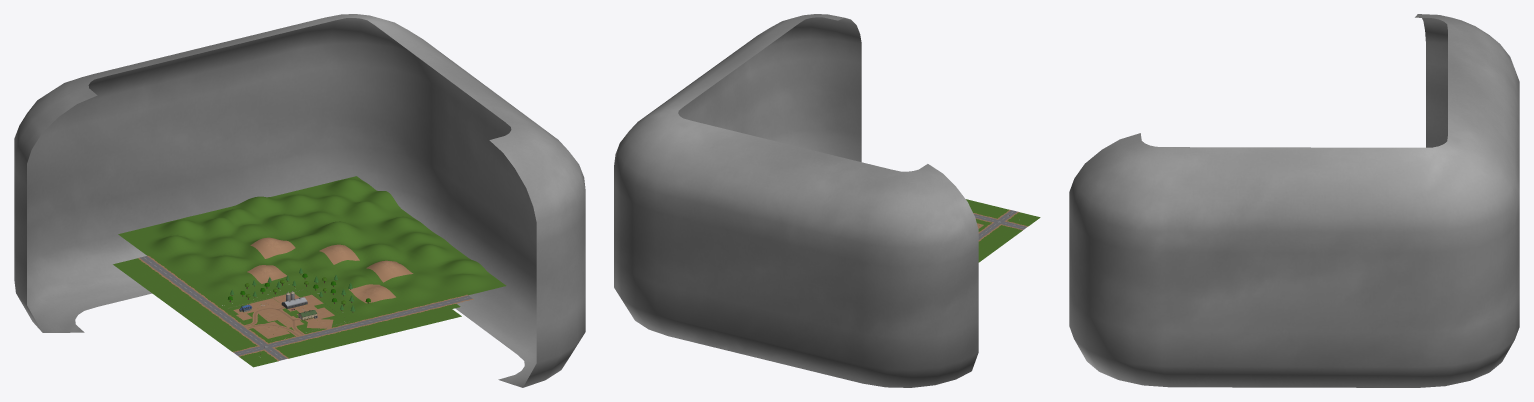
Rendered from LS_full_scene_00.fbx.
3 renders of one model, left to right at view 1: azimuth 30°, elevation 25°; view 2: azimuth 150°, elevation 25°; view 3: azimuth 270°, elevation 25°, orthographic. The views are drawn at different scales.
Parts seen in each view (by area): view 1: skybox2, ground, polySurface27, mainroads, dirtroads; view 2: skybox2, ground, mainroads; view 3: skybox2.
Boxes of the visible parts, x1,y1,x2,y2 form: skybox2: [14, 14, 585, 387]; ground: [113, 176, 506, 367]; polySurface27: [233, 237, 413, 338]; mainroads: [138, 255, 473, 360]; dirtroads: [244, 306, 304, 336]; skybox2: [614, 14, 978, 387]; ground: [966, 199, 1040, 262]; mainroads: [973, 209, 1028, 241]; skybox2: [1069, 14, 1519, 387].
Bounding box in the file's own units: 1020 × 559 × 1018.
